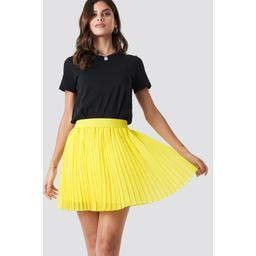Tshirt: (57, 48, 149, 123)
skirt: (58, 118, 198, 212)
